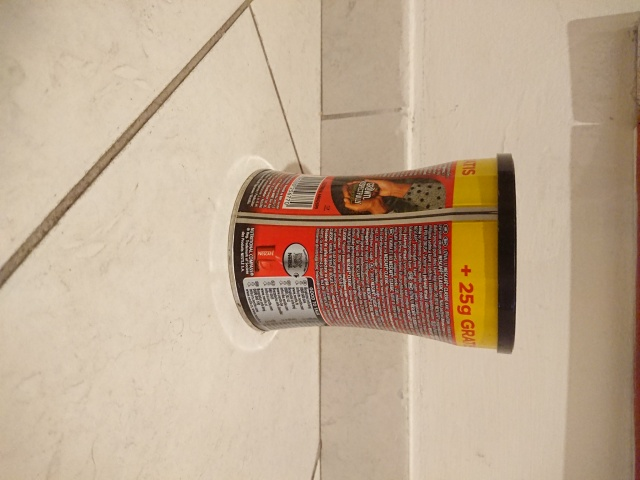Nescafe Classic 225g: (222, 149, 521, 357)
